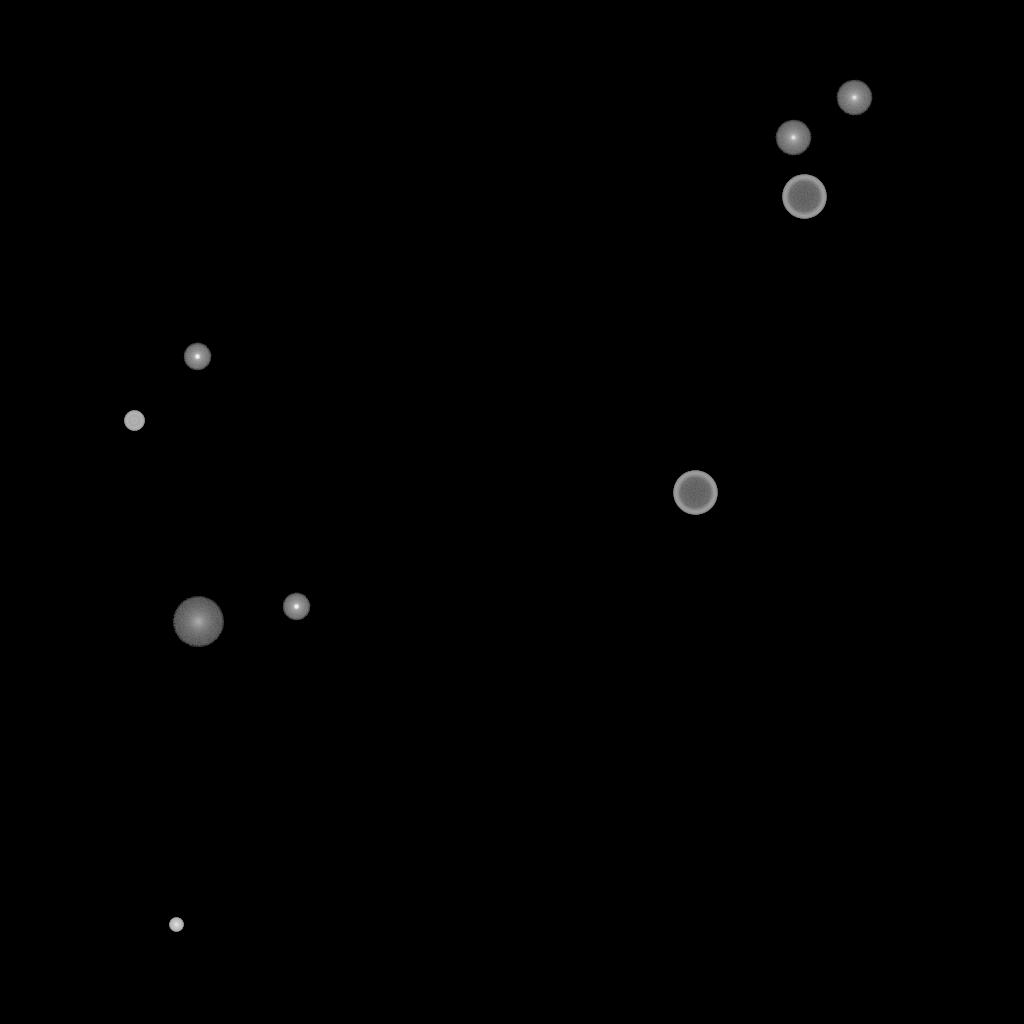depth:-10: (183, 343, 211, 371), (282, 593, 310, 621)
depth:-30: (169, 918, 183, 932)
depth:-40: (124, 411, 144, 431)
depth:-70: (673, 471, 717, 515), (782, 175, 826, 219)
depth:0: (775, 120, 811, 156), (836, 80, 872, 116)
depth:20: (172, 597, 224, 647)
